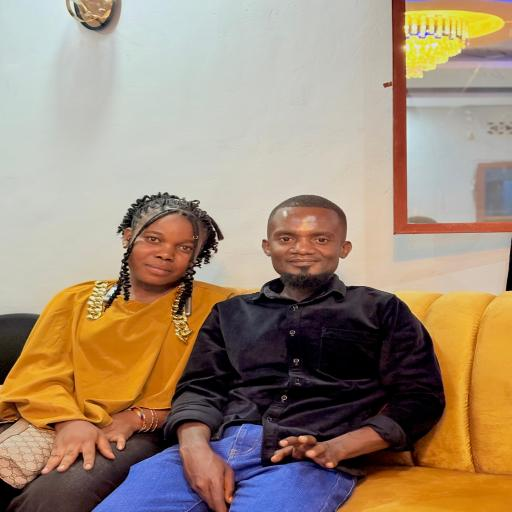MATTHIEU: (260, 195, 367, 295)
